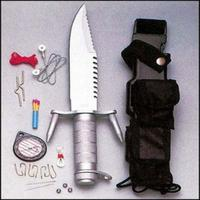knife: (60, 2, 115, 194)
